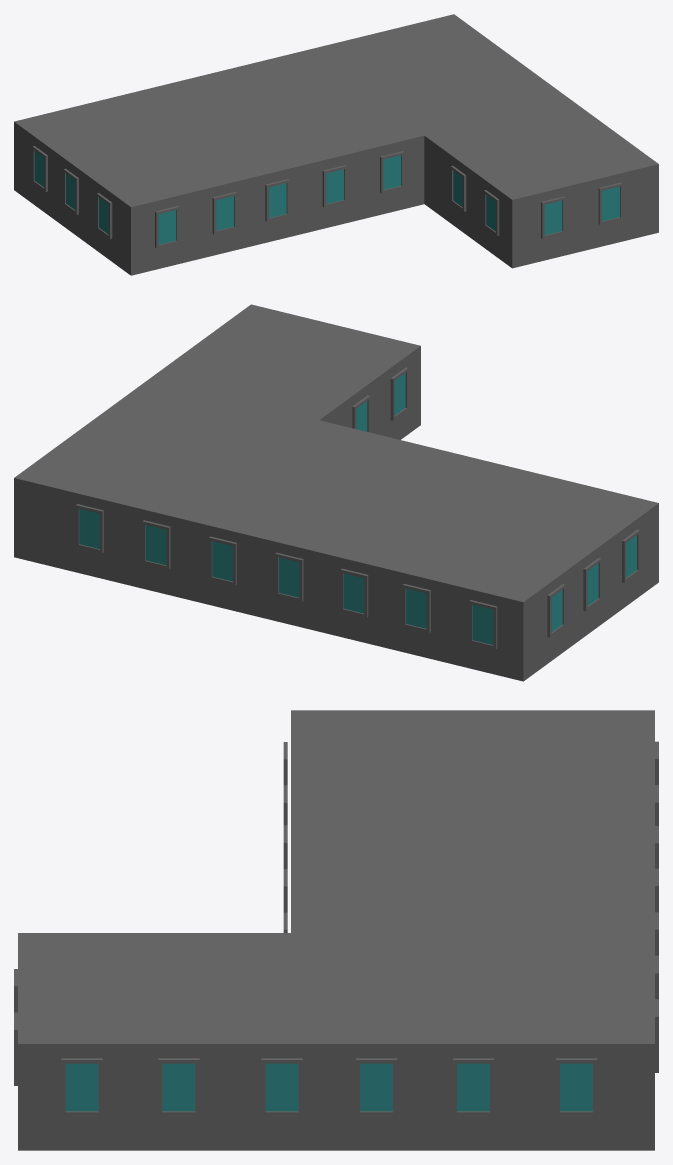
Rendered from mid.obj.
3 renders of one model, top to bottom at view 1: azimuth 30°, elevation 25°; view 2: azimuth 150°, elevation 25°; view 3: azimuth 270°, elevation 25°, orthographic. The views are drawn at different scales.
Parts seen in each view (by area): view 1: Cube.003_Cube.003_Cube.003_Cube.024; view 2: Cube.003_Cube.003_Cube.003_Cube.024; view 3: Cube.003_Cube.003_Cube.003_Cube.024.
Boxes of the visible parts, x1=… form: Cube.003_Cube.003_Cube.003_Cube.024: x1=14, y1=14, x2=658, y2=275; Cube.003_Cube.003_Cube.003_Cube.024: x1=14, y1=304, x2=658, y2=681; Cube.003_Cube.003_Cube.003_Cube.024: x1=14, y1=710, x2=658, y2=1150.
Size of the model in its own units: 23.22 by 3.42 by 18.77.
